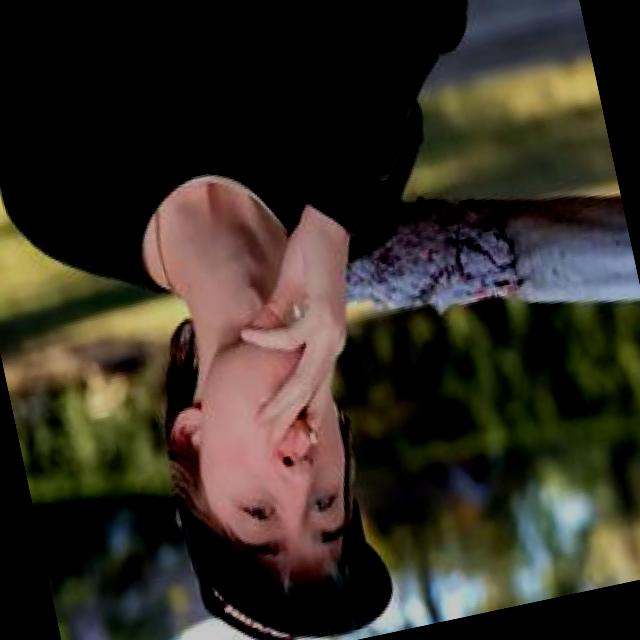cigarette: (268, 381, 338, 472)
